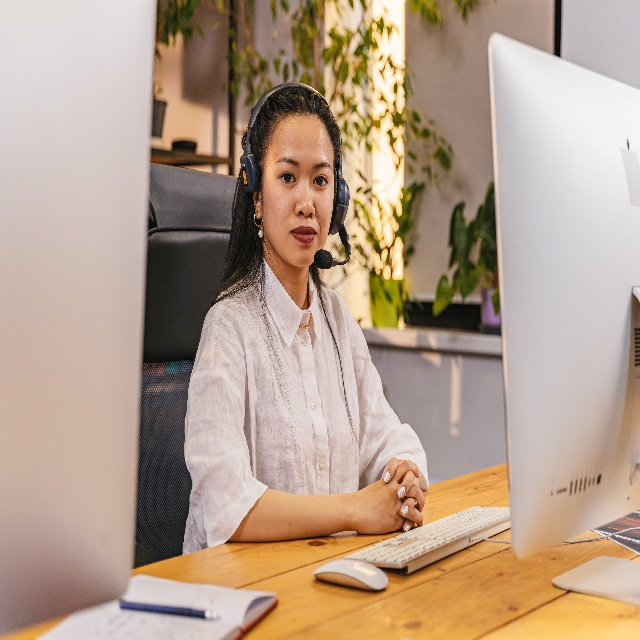Sin_guantes: (357, 472, 425, 531), (382, 456, 427, 528)
